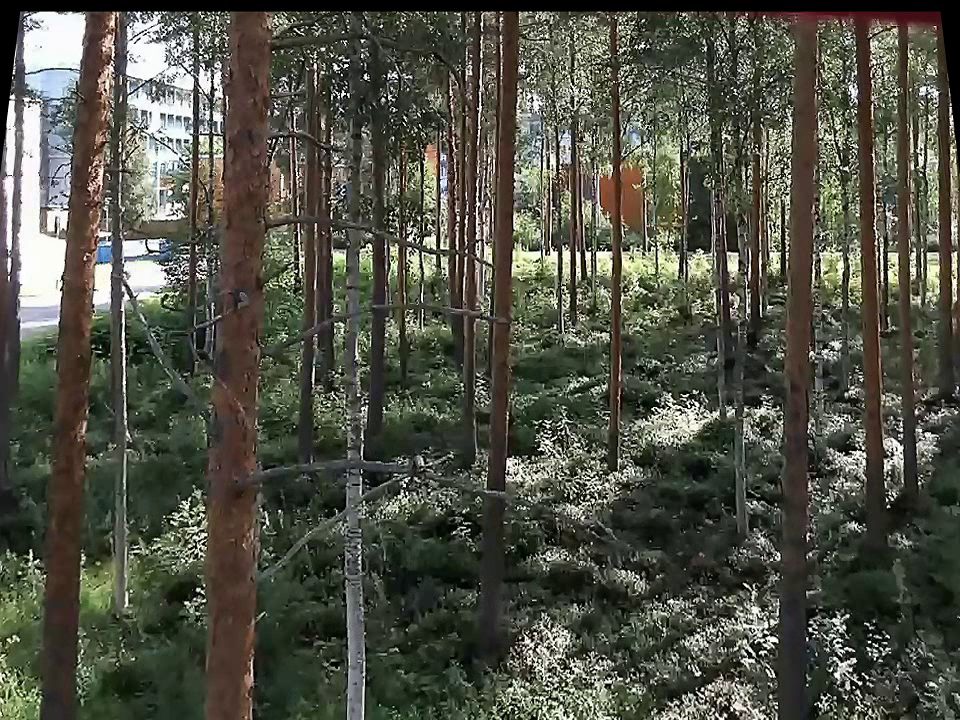branch: (260, 454, 596, 539), (259, 449, 456, 581), (277, 24, 471, 111), (271, 292, 517, 358), (265, 208, 497, 276), (269, 116, 351, 158)
trunk: (20, 20, 126, 715), (187, 18, 283, 711), (843, 23, 897, 533), (775, 26, 813, 713), (473, 24, 516, 627), (286, 40, 340, 432), (888, 30, 928, 495), (360, 24, 393, 435), (599, 33, 629, 471), (741, 41, 770, 358)
